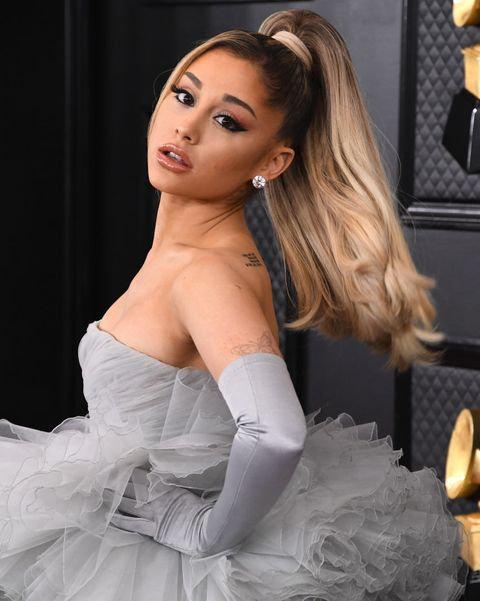Sober: (149, 62, 264, 192)
